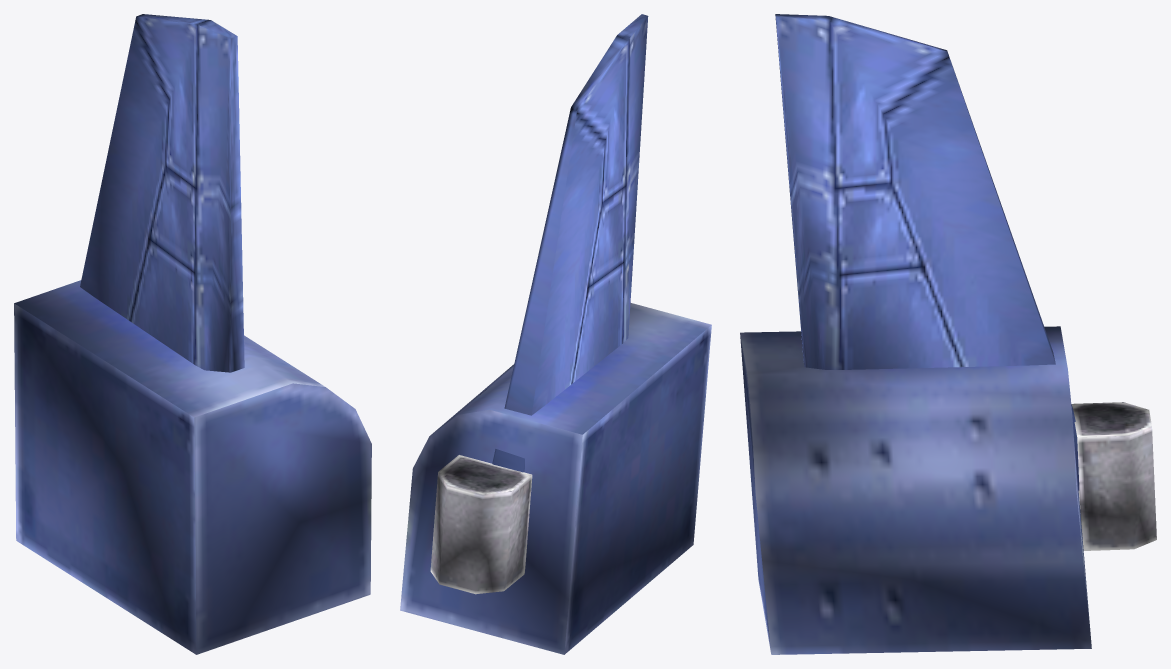
The model's file is Robot01.RightForeArm2.fbx.
3 renders of one model, left to right at view 1: azimuth 30°, elevation 25°; view 2: azimuth 150°, elevation 25°; view 3: azimuth 270°, elevation 25°, orthographic. The views are drawn at different scales.
Visible parts, largest first — view 1: Robot.029; view 2: Robot.029; view 3: Robot.029.
Boxes of the visible parts, x1,y1,x2,y2 form: Robot.029: (14, 14, 371, 654); Robot.029: (400, 14, 711, 654); Robot.029: (740, 14, 1156, 654).
Bounding box in the file's own units: 24.06 × 66.26 × 42.54.
